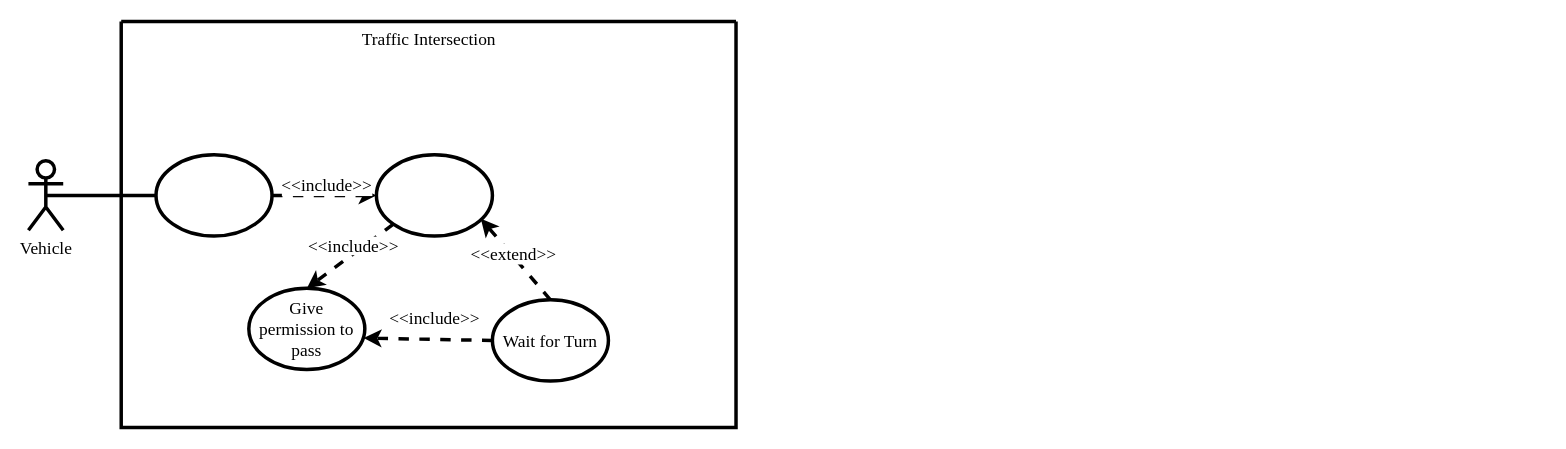
Image size: 1566x449. Some labels were removed from this diagram. Here are the shapes that lost their labels. From the top down, the centre of each, then its label:
At pixel 213 195: "Send Request".
At pixel 434 195: "Check Current queue".
